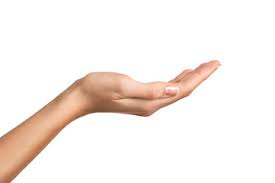hand: (68, 50, 234, 126)
